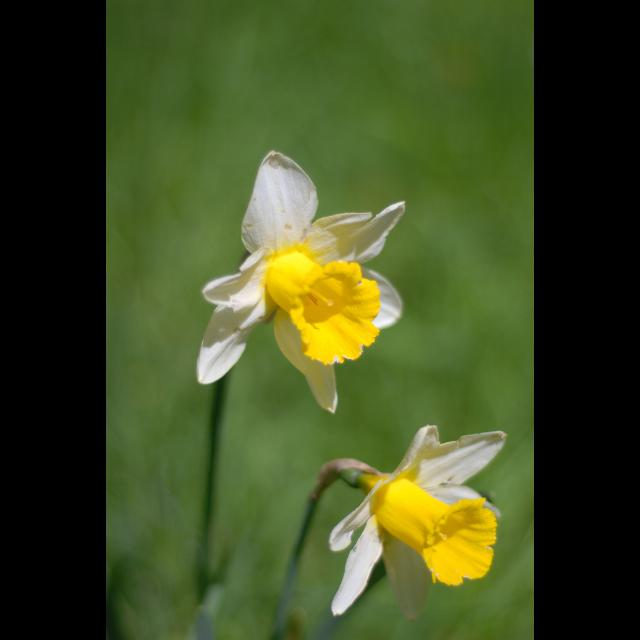Flower: (196, 149, 400, 415), (308, 420, 504, 630)
